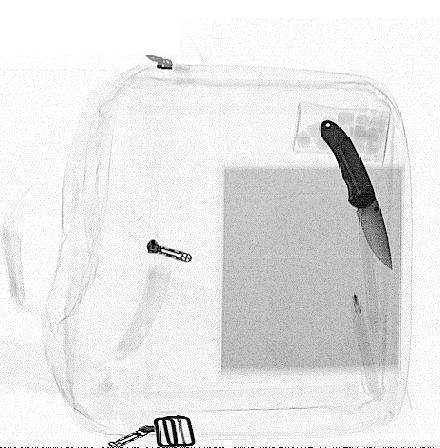Knife: (318, 118, 395, 271)
